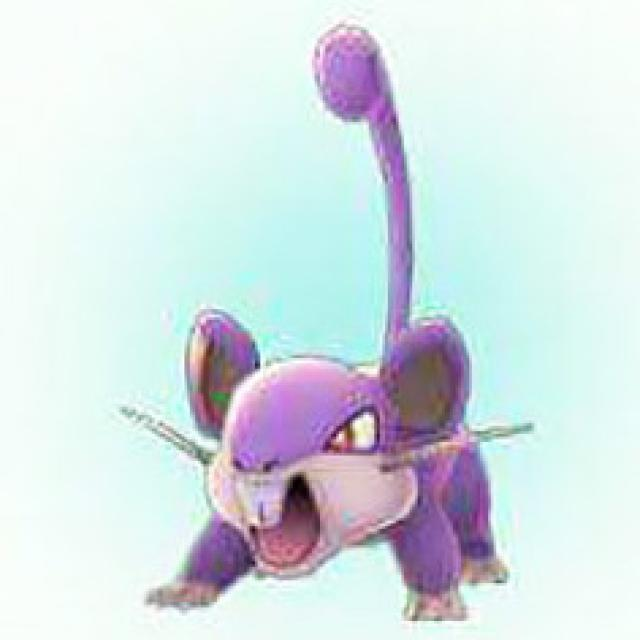Rattata: (149, 282, 505, 636)
